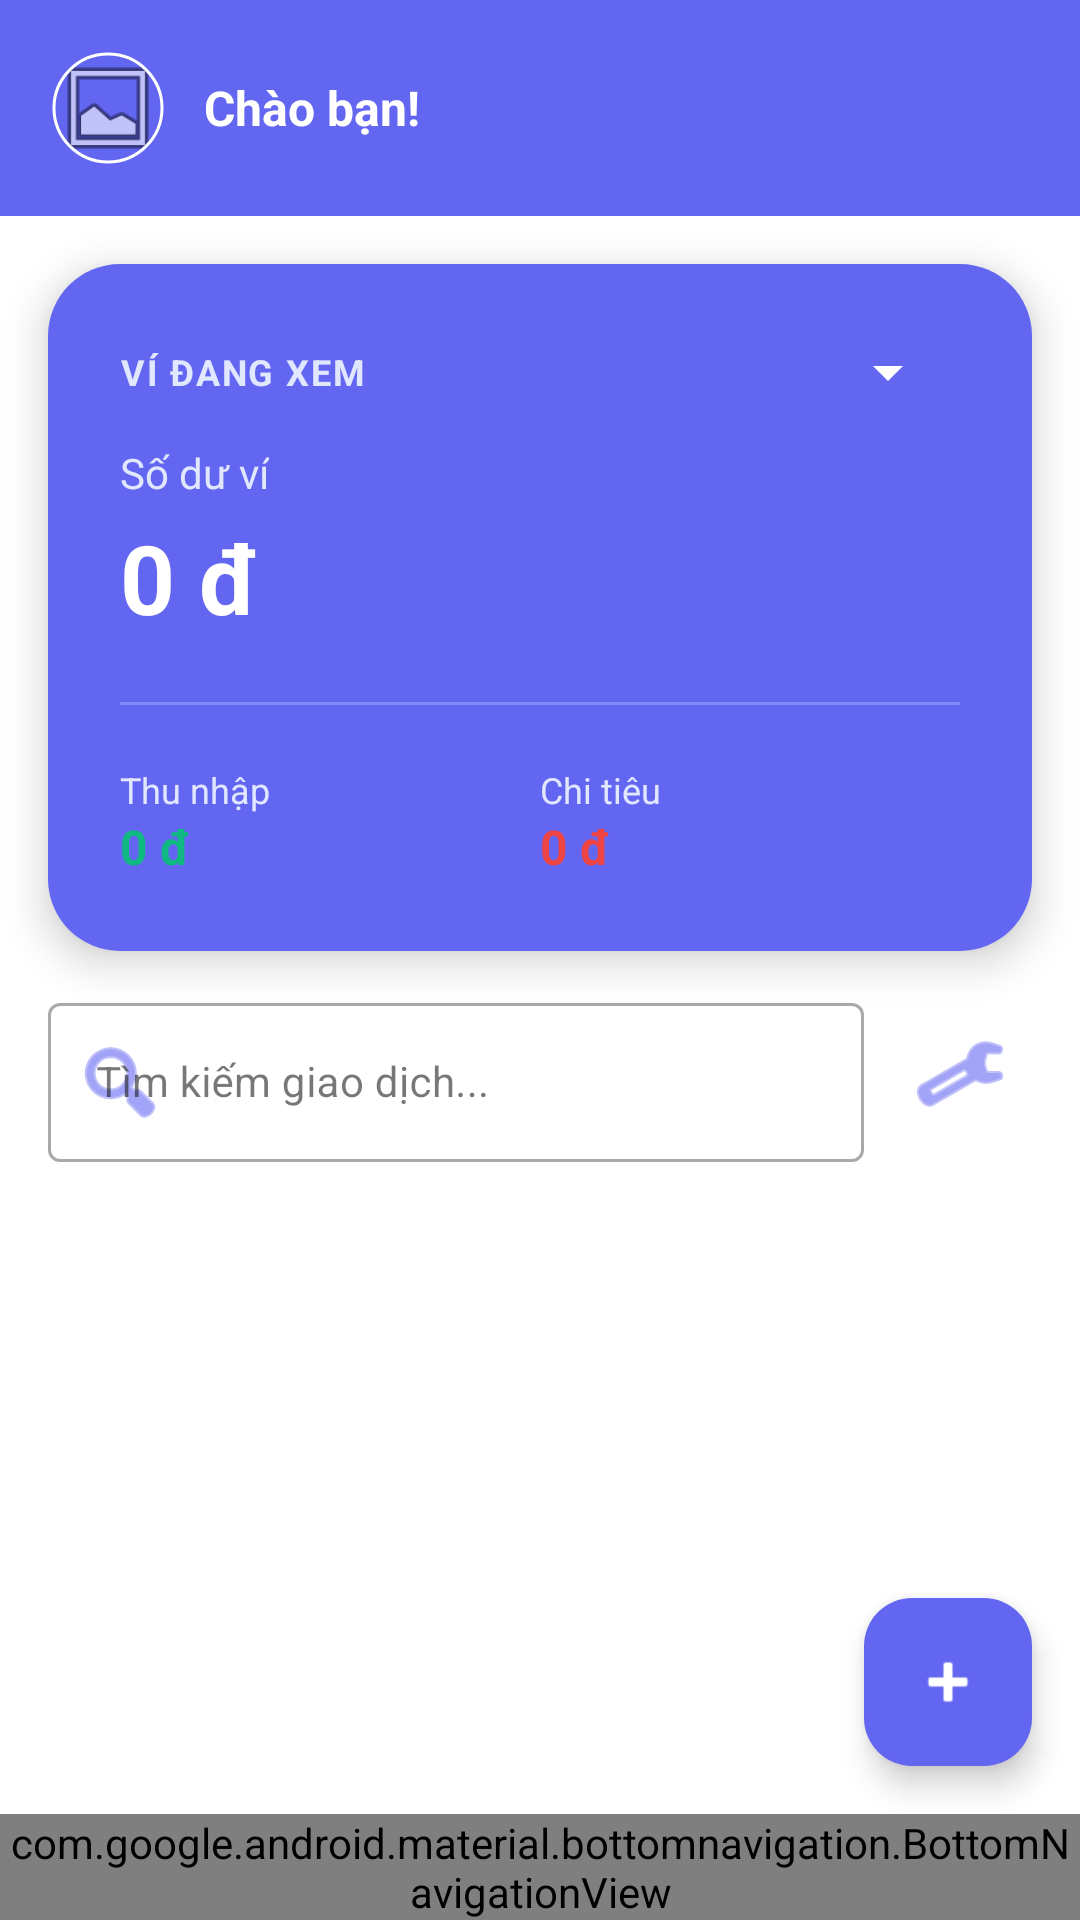

Where icons sit on this 1080px×1920px app screen, as region(x1, y1, x2, y2):
Add Transaction: region(864, 1598, 1032, 1766)
gallery: region(52, 52, 164, 164)
